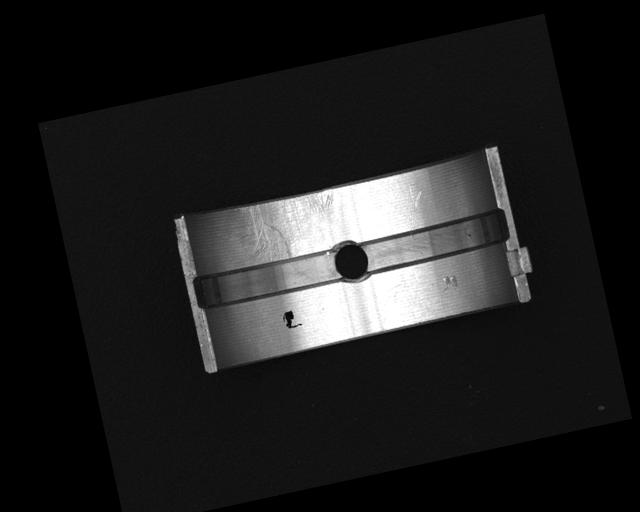blot: (281, 308, 302, 330)
bruise: (443, 274, 460, 290)
gap: (193, 246, 346, 311), (359, 209, 511, 274)
hole: (328, 236, 370, 286)
nick: (403, 190, 427, 229)
scratch: (234, 189, 341, 266)
